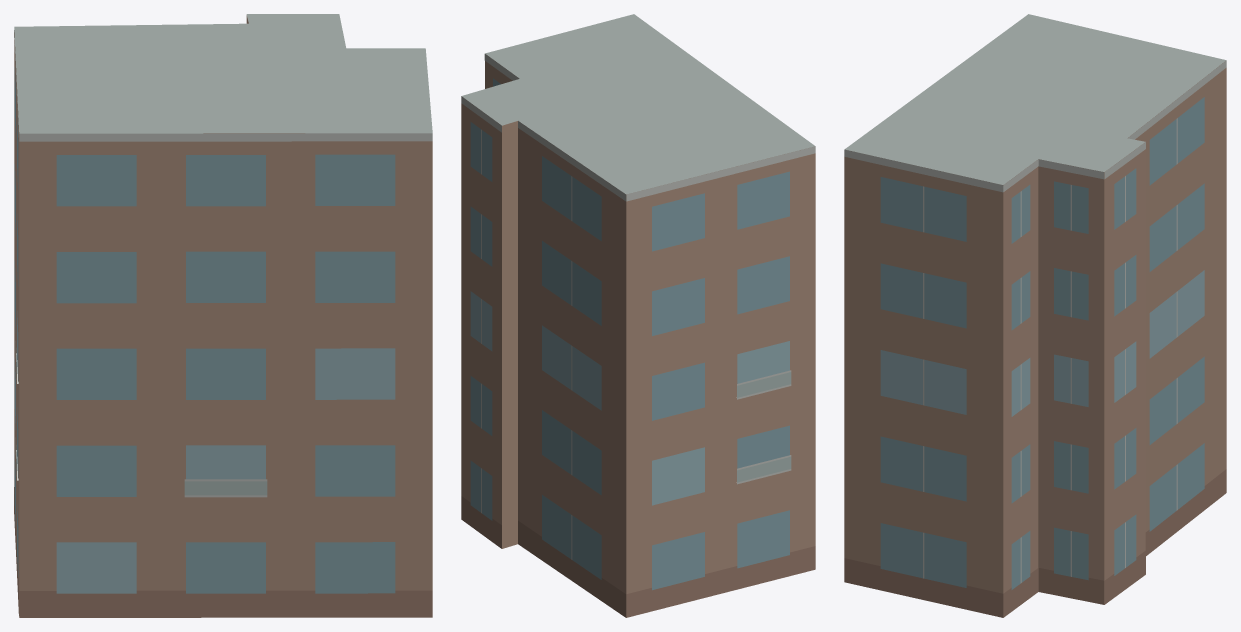
File: survey-upis-32884256.glb
3 views of the same model, side by side, from view 1: azimuth 30°, elevation 25°; view 2: azimuth 150°, elevation 25°; view 3: azimuth 270°, elevation 25° (orthographic). The views are drawn at different scales.
Parts seen in each view (by area): view 1: survey-upis-32884256.tmp; view 2: survey-upis-32884256.tmp; view 3: survey-upis-32884256.tmp.
Part boxes in pixels (bbox=[...]): survey-upis-32884256.tmp: bbox=[14, 14, 432, 617]; survey-upis-32884256.tmp: bbox=[461, 14, 815, 617]; survey-upis-32884256.tmp: bbox=[844, 14, 1226, 617].
Bounding box in the file's own units: 12.35 × 14.55 × 11.65.
